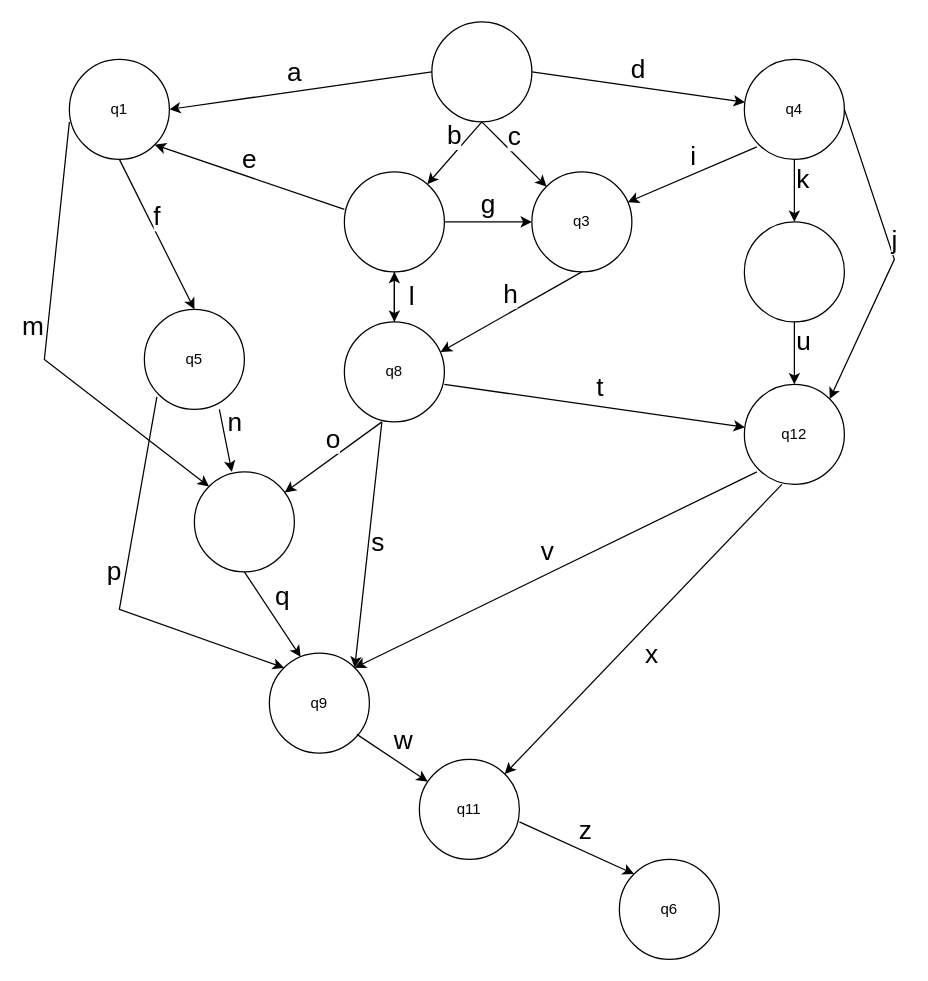
This 928x981 diagram has some shape labels left out. The centre of each missing label's shape, as x and y in pixels:
"q0" goes at [481,71].
"q10" goes at [243,521].
"q2" goes at [393,221].
"q7" goes at [793,271].
